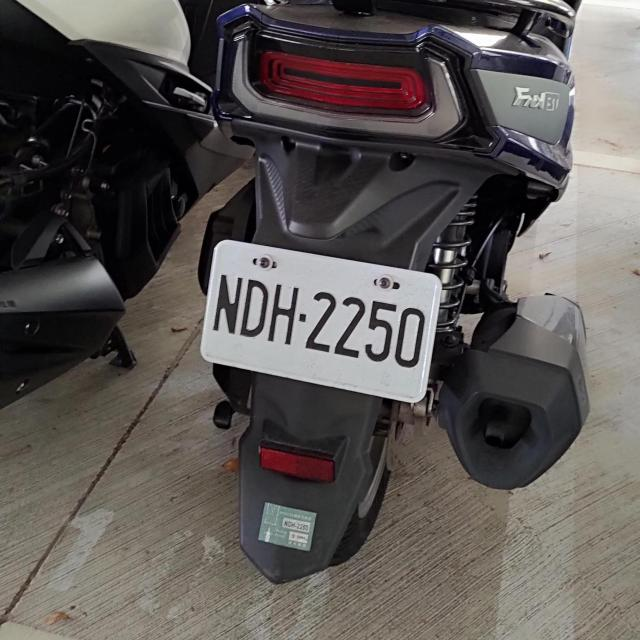W: (193, 240, 444, 399)
